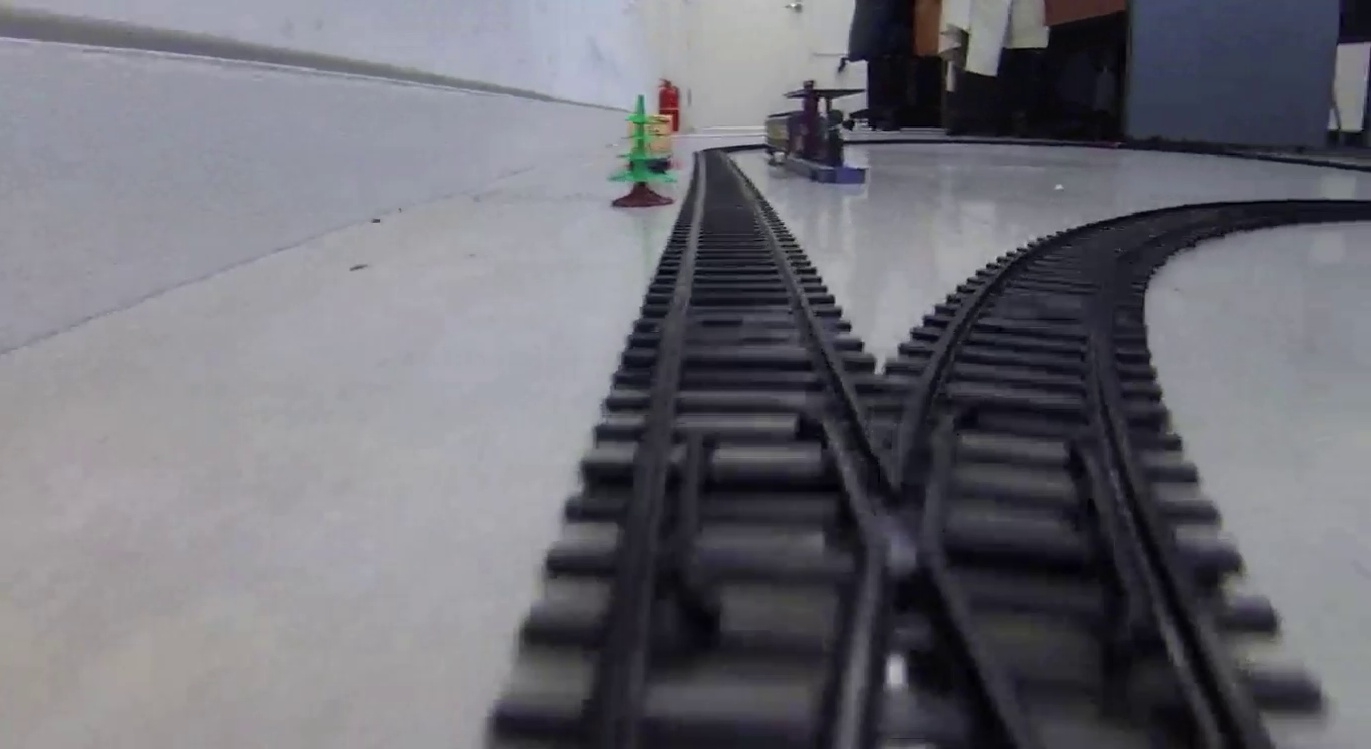tree: (606, 96, 672, 209)
